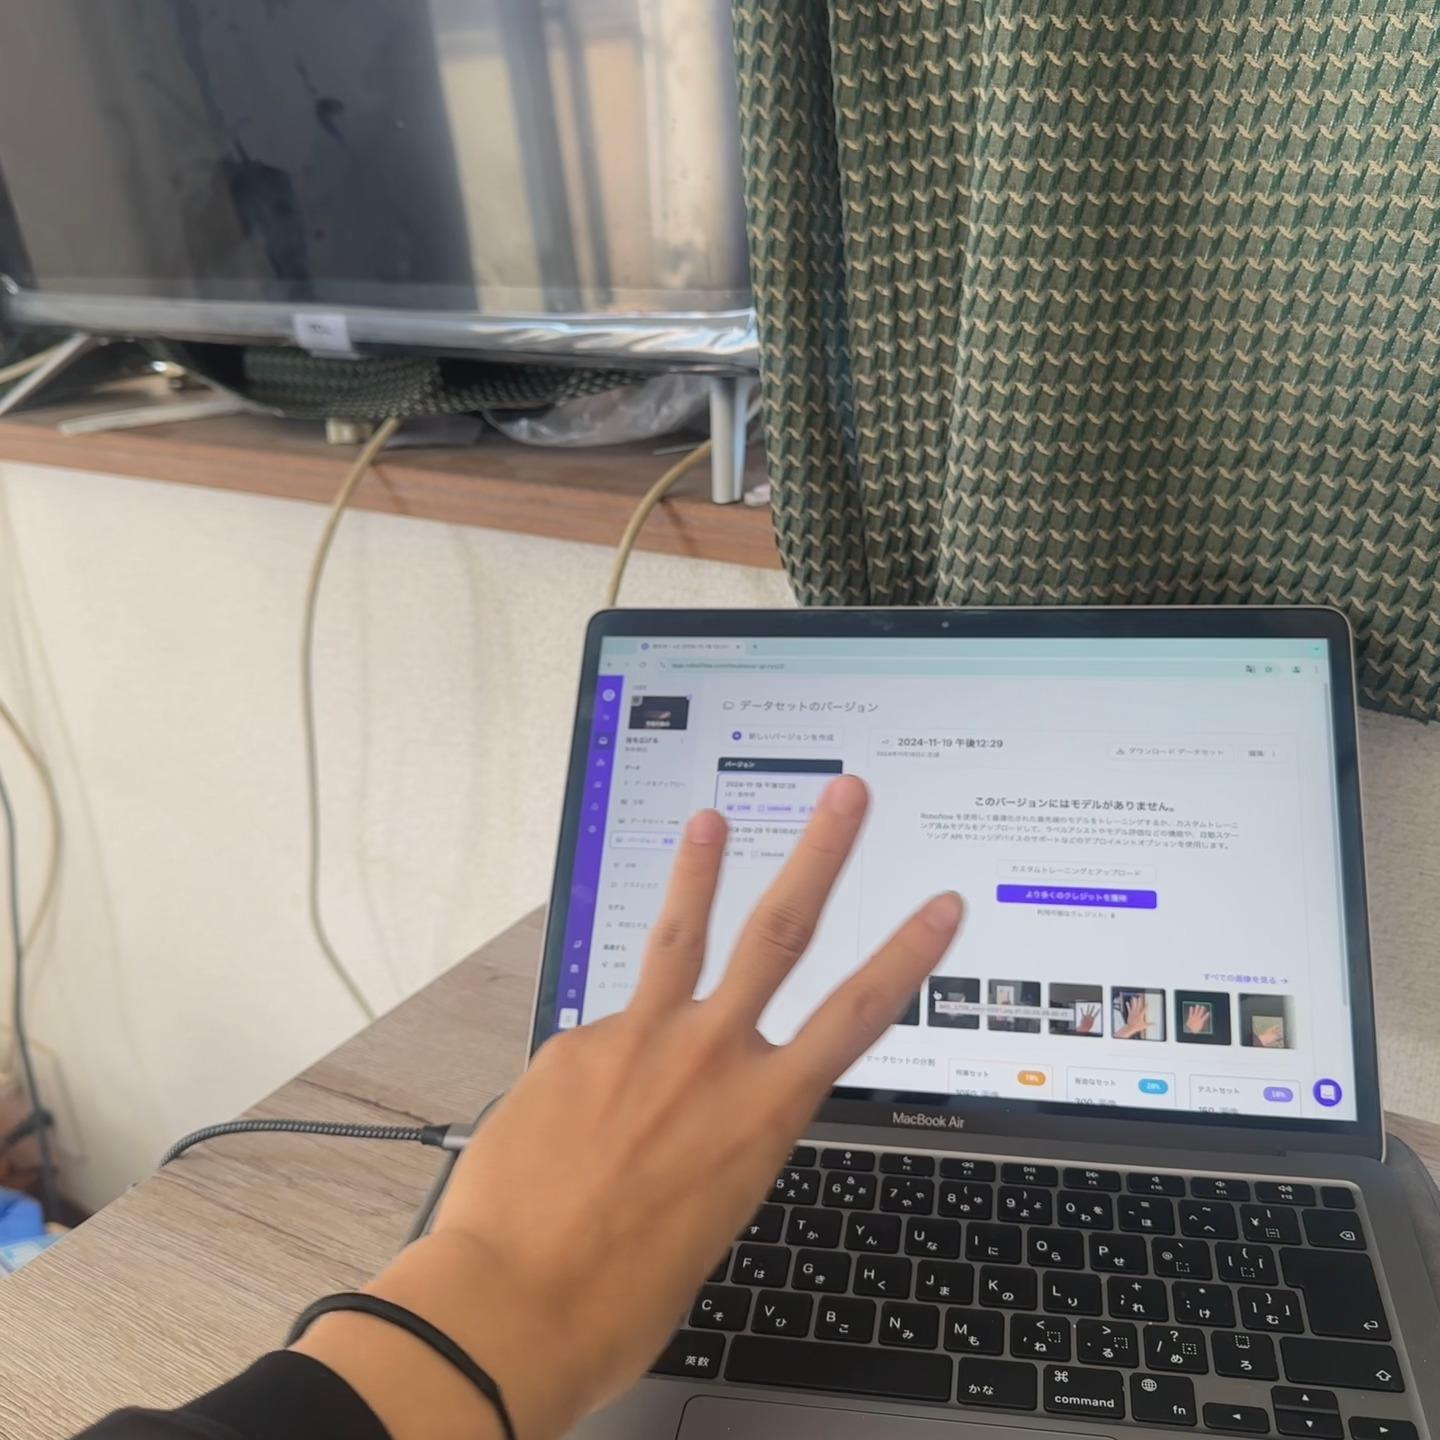without_gloves: (220, 165, 1082, 1327)
